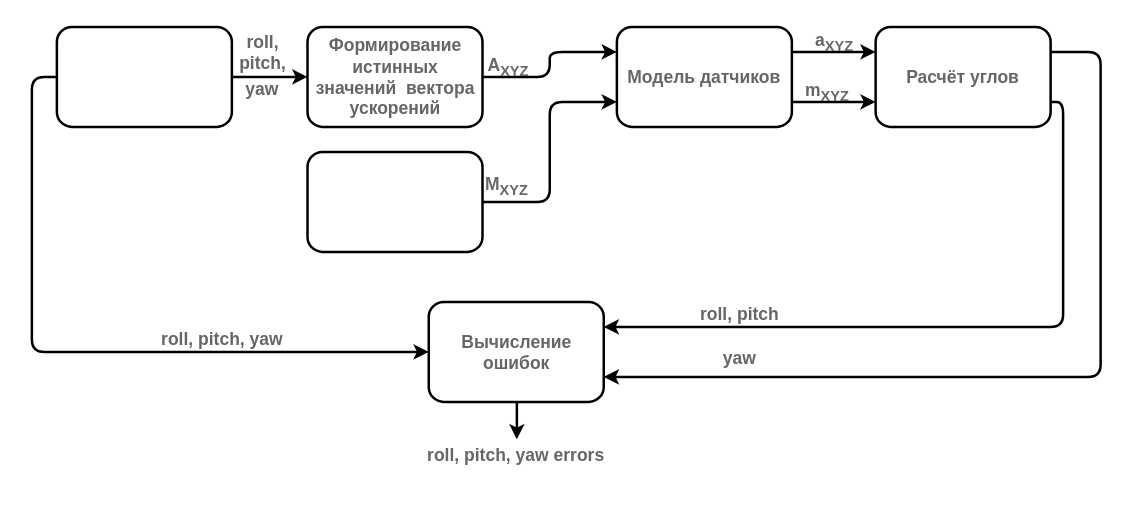
This 1133x523 diagram has some shape labels left out. The shapes that lost their labels are listed below. From the top down, each one's centre as x and y in pixels, then its label:
point (143, 76): Формирование истинных углов в ССК
point (394, 201): Формирование истинных значений вектора магнитной индукции
